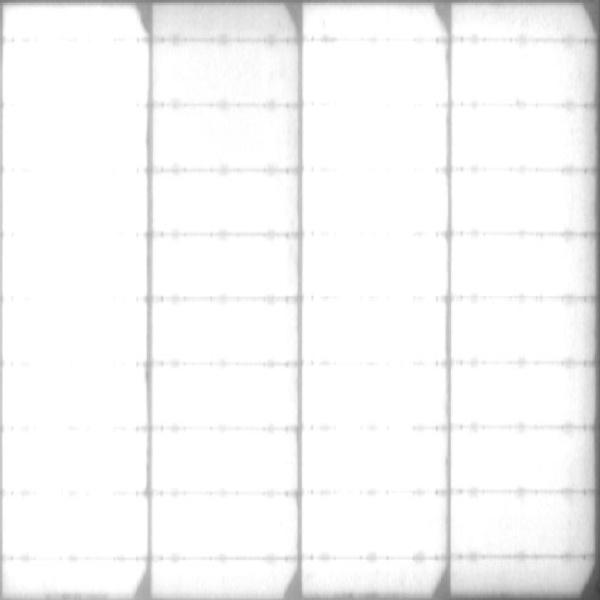hot_spot: (6, 8, 138, 585), (311, 365, 440, 428), (154, 499, 290, 554), (309, 109, 442, 165), (306, 46, 441, 101), (310, 177, 443, 232), (310, 241, 441, 296), (312, 303, 442, 358), (158, 439, 292, 492), (159, 368, 287, 423), (312, 435, 441, 489), (154, 241, 290, 292), (314, 499, 441, 553), (163, 110, 285, 166), (155, 306, 291, 356), (453, 109, 573, 159), (159, 179, 285, 225), (452, 52, 573, 99), (457, 435, 573, 483), (457, 372, 569, 420), (461, 308, 571, 354), (461, 502, 564, 551), (459, 178, 568, 224), (461, 241, 570, 287), (161, 563, 283, 592)
